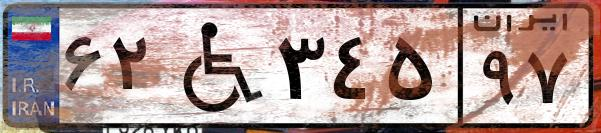2: (110, 28, 158, 98)
3: (270, 28, 330, 110)
4: (330, 28, 385, 110)
5: (385, 28, 445, 110)
6: (57, 26, 110, 100)
7: (525, 38, 570, 115)
9: (475, 38, 525, 113)
ژ (معلولین و جانبازان): (158, 12, 270, 120)
